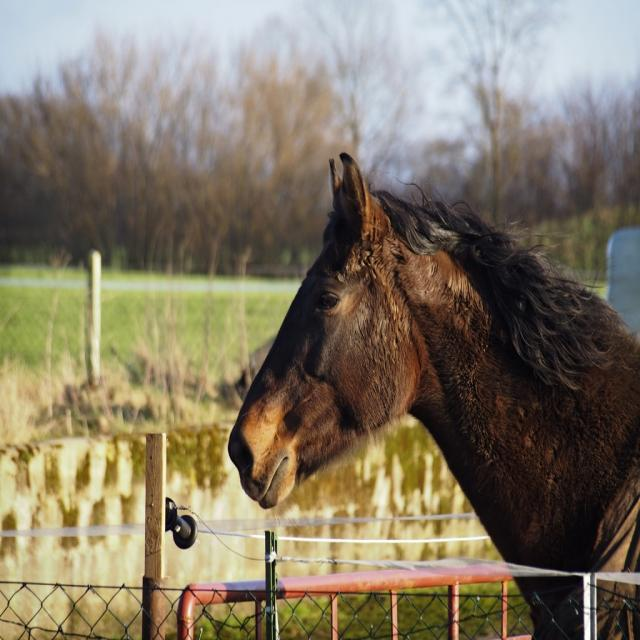Horse: (230, 155, 640, 640)
